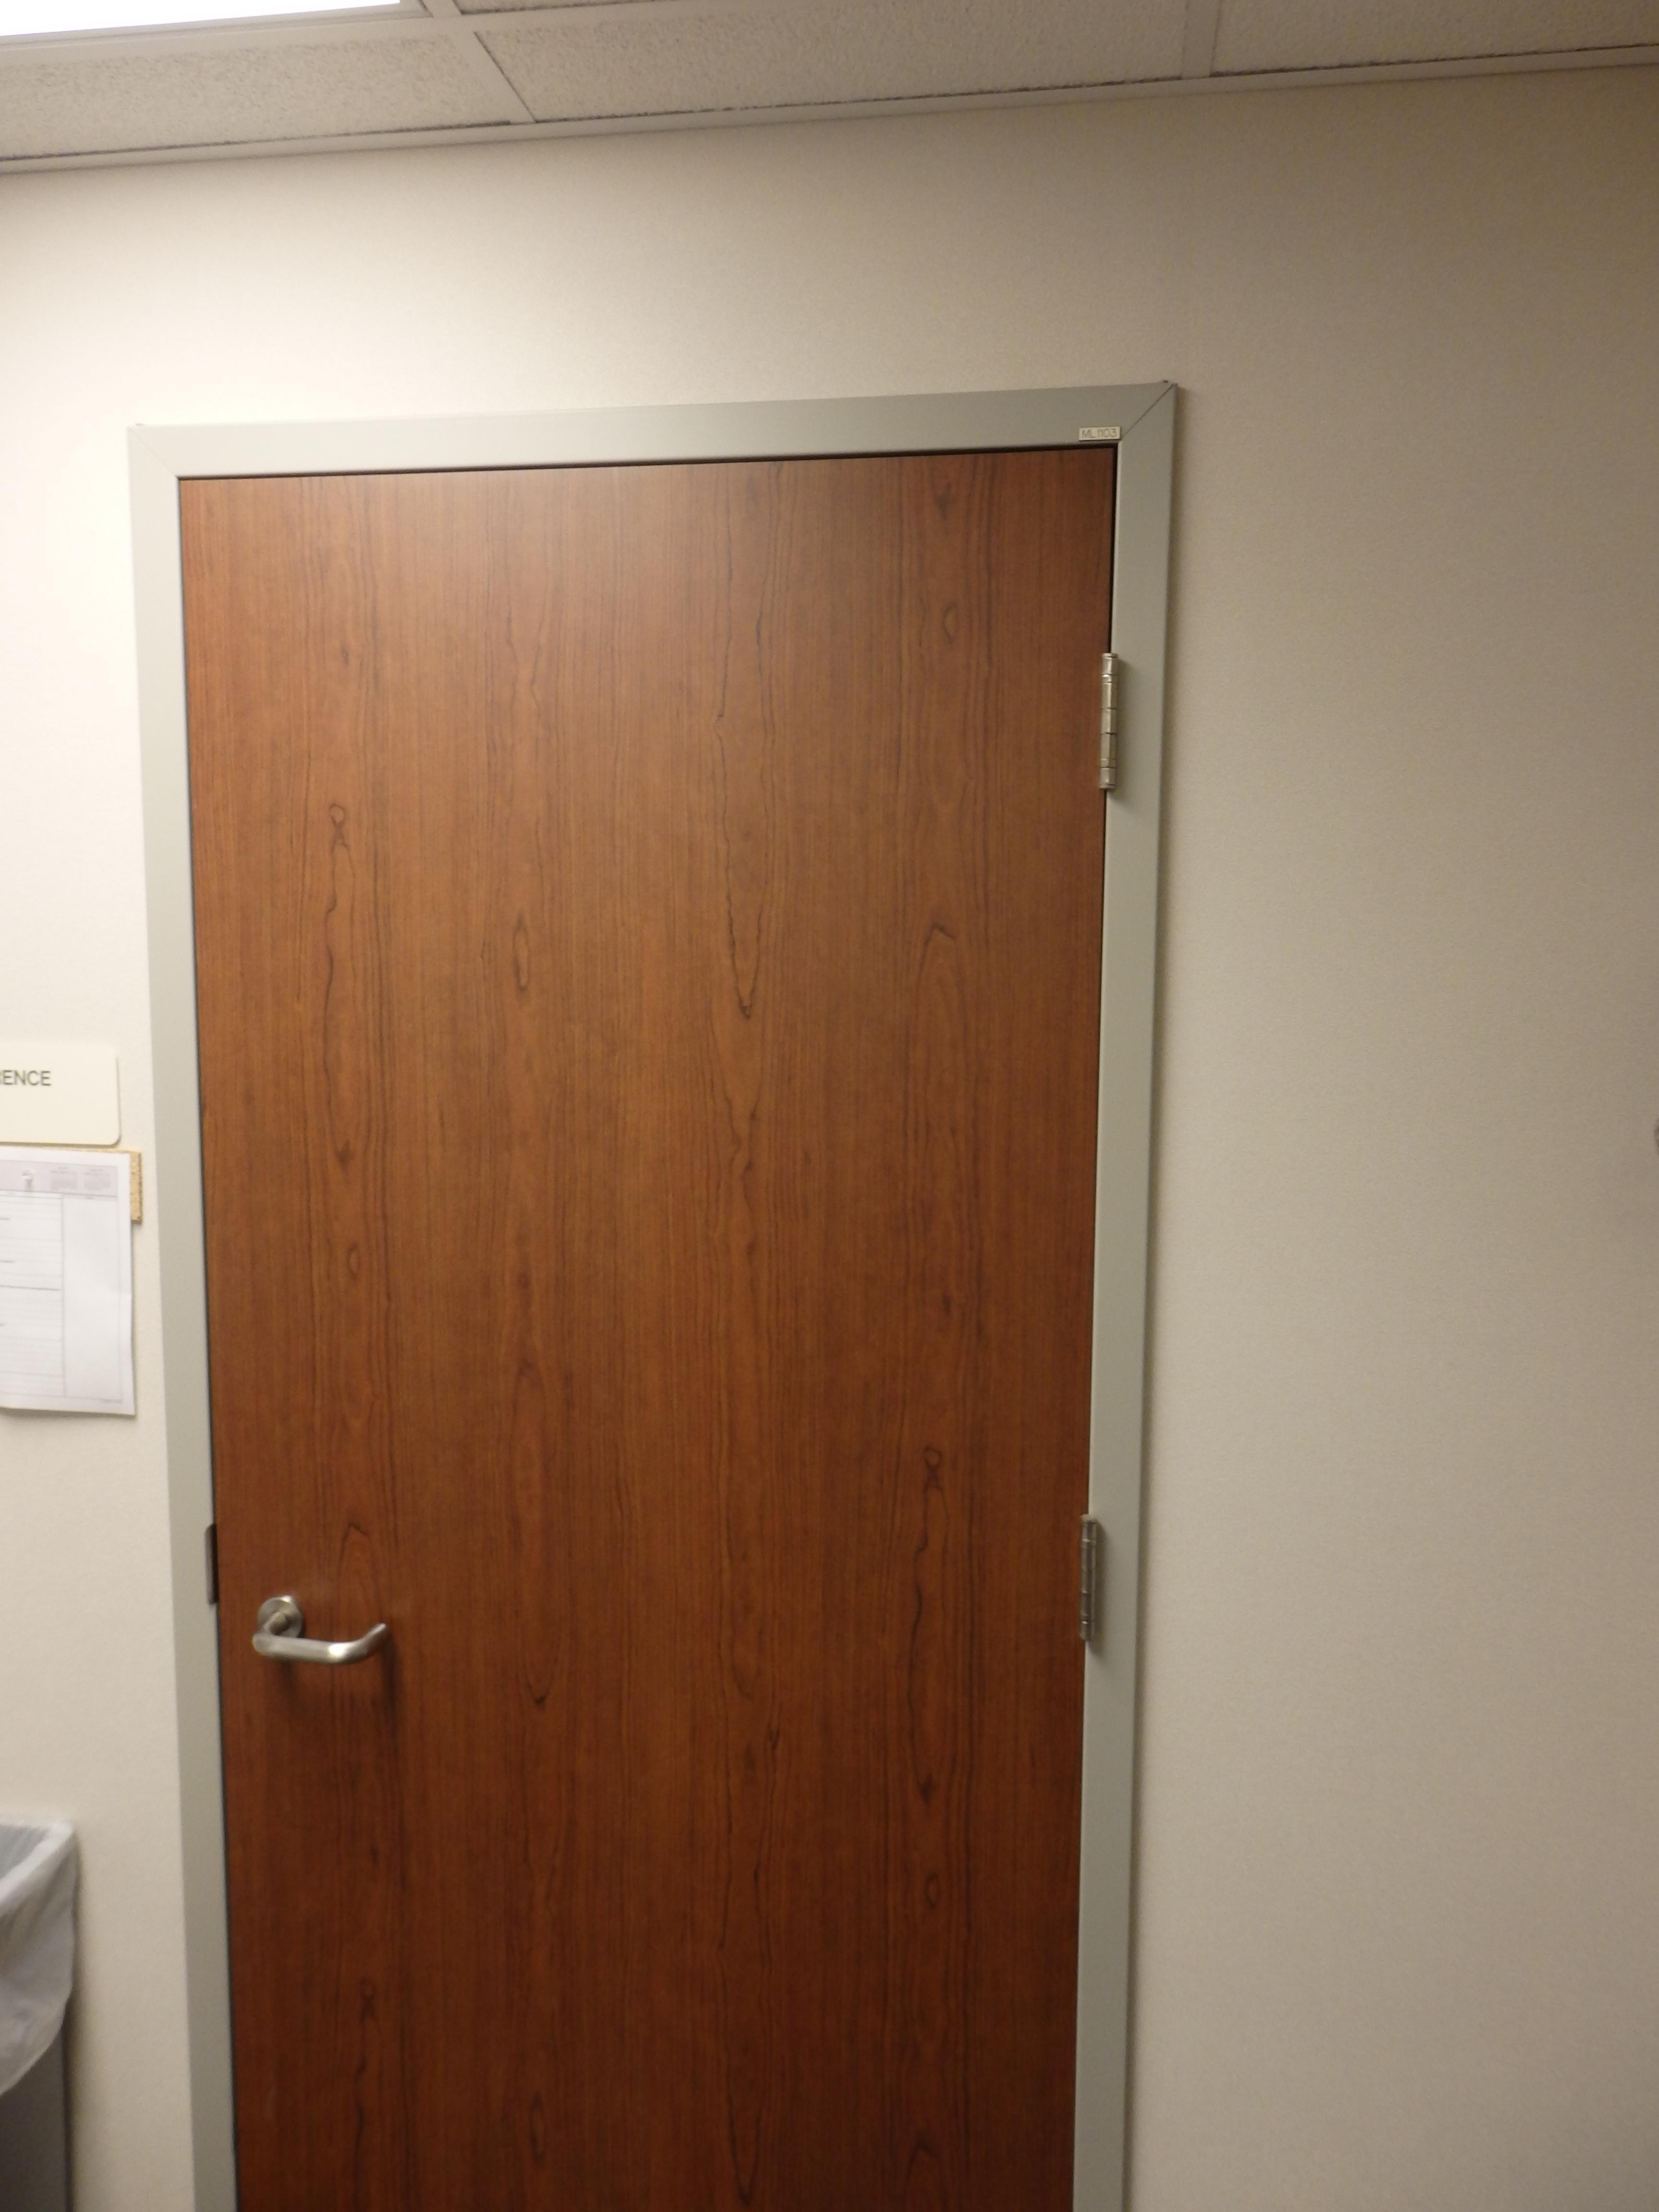handle: (244, 1561, 404, 1712)
